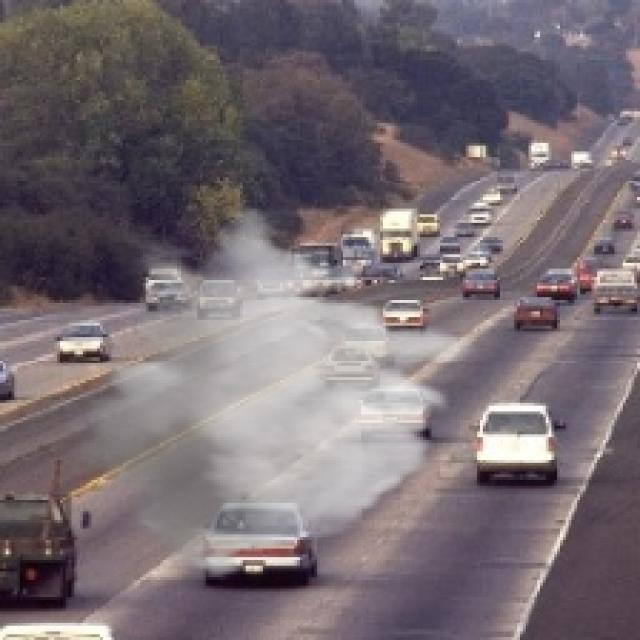smoke: (57, 206, 477, 583)
